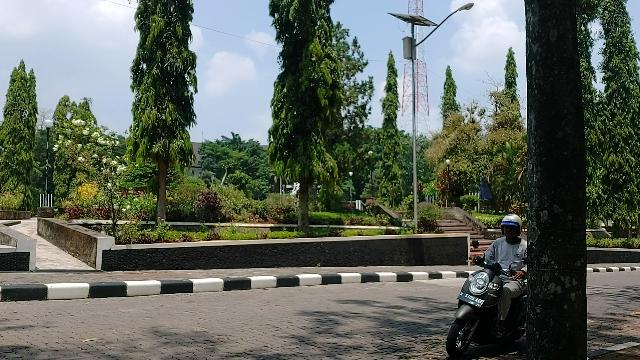helm: (503, 216, 523, 239)
motor: (447, 262, 527, 357)
